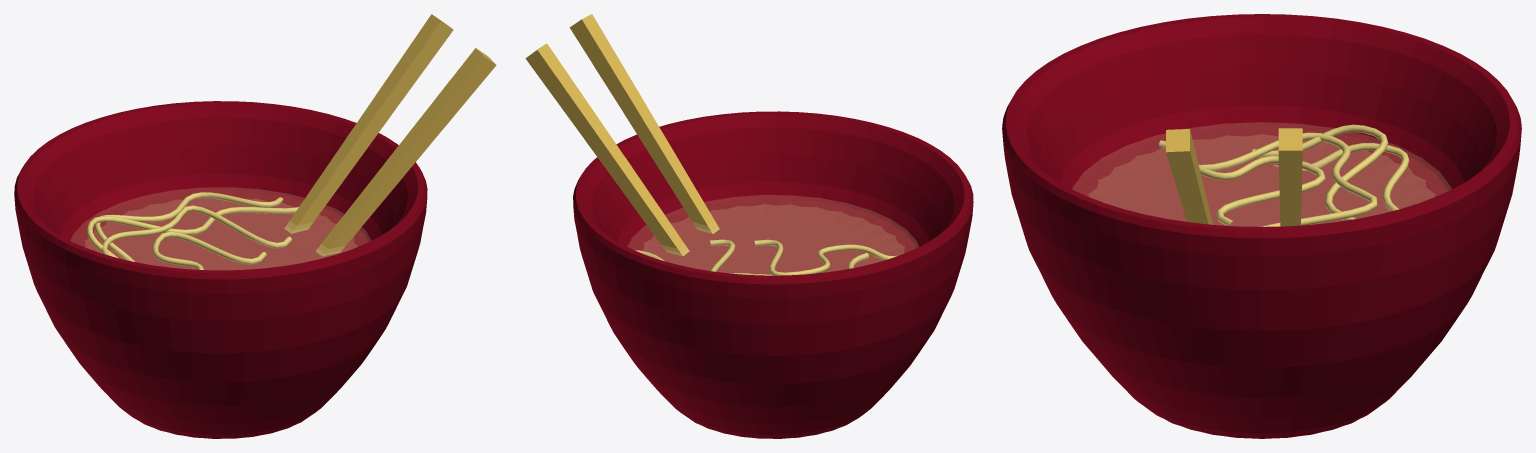
Rendered from ramenHologram.gltf.
3 views of the same model, side by side, from view 1: azimuth 30°, elevation 25°; view 2: azimuth 150°, elevation 25°; view 3: azimuth 270°, elevation 25° (orthographic). The views are drawn at different scales.
Visible parts, largest first — view 1: ramenBowl_Cylinder, Cylinder.016_Cylinder.022, Cube.001, Cube.129_Cube.001, BezierCurve.020, BezierCurve.021, BezierCurve.019, BezierCurve.022; view 2: ramenBowl_Cylinder, Cylinder.016_Cylinder.022, Cube.001, Cube.129_Cube.001, BezierCurve.022, BezierCurve.021; view 3: ramenBowl_Cylinder, Cylinder.016_Cylinder.022, Cube.129_Cube.001, Cube.001, BezierCurve.021, BezierCurve.022, BezierCurve.020, BezierCurve.019.
Part boxes in pixels (left/top/right/bottom): ramenBowl_Cylinder: left=14, top=101, right=427, bottom=438; Cylinder.016_Cylinder.022: left=71, top=188, right=370, bottom=269; Cube.001: left=284, top=14, right=453, bottom=233; Cube.129_Cube.001: left=315, top=48, right=496, bottom=256; BezierCurve.020: left=87, top=207, right=298, bottom=258; BezierCurve.021: left=101, top=205, right=292, bottom=257; BezierCurve.019: left=94, top=192, right=283, bottom=261; BezierCurve.022: left=152, top=231, right=266, bottom=269; ramenBowl_Cylinder: left=573, top=111, right=973, bottom=438; Cylinder.016_Cylinder.022: left=628, top=195, right=918, bottom=274; Cube.001: left=525, top=43, right=689, bottom=256; Cube.129_Cube.001: left=569, top=14, right=719, bottom=233; BezierCurve.022: left=754, top=239, right=897, bottom=275; BezierCurve.021: left=710, top=239, right=868, bottom=275; ramenBowl_Cylinder: left=1002, top=14, right=1521, bottom=438; Cylinder.016_Cylinder.022: left=1073, top=122, right=1451, bottom=226; Cube.129_Cube.001: left=1166, top=129, right=1212, bottom=224; Cube.001: left=1278, top=128, right=1302, bottom=226; BezierCurve.021: left=1198, top=132, right=1377, bottom=226; BezierCurve.022: left=1159, top=140, right=1325, bottom=225; BezierCurve.020: left=1252, top=124, right=1388, bottom=220; BezierCurve.019: left=1274, top=143, right=1409, bottom=211.
Size of the model in its own units: 107 by 77.93 by 91.47.
